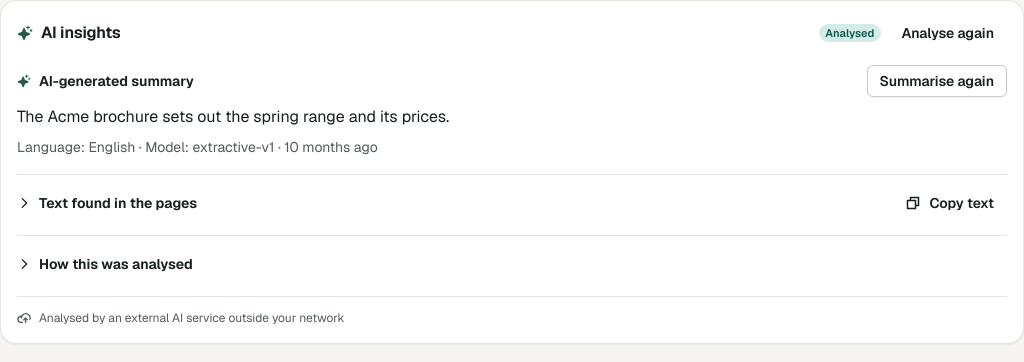
Test: AI panel: summary › summarising again waits for a newer summary, not the one already shown
Click the button "Summarise again" at (937, 81), box [866,65,1007,97]
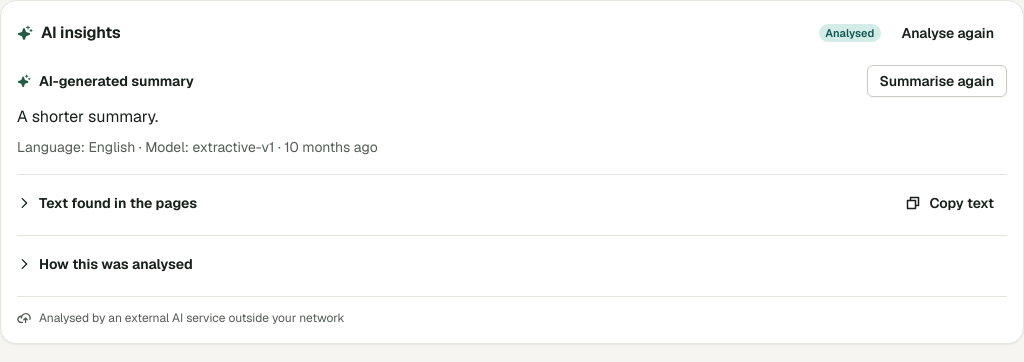
Check: the text "A shorter summary." is shown, box [17,106,158,127]
